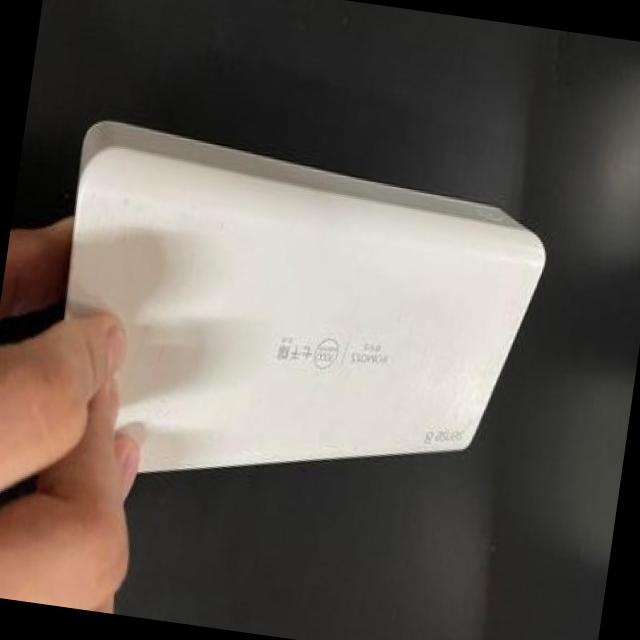portable-charger: (19, 106, 560, 548)
